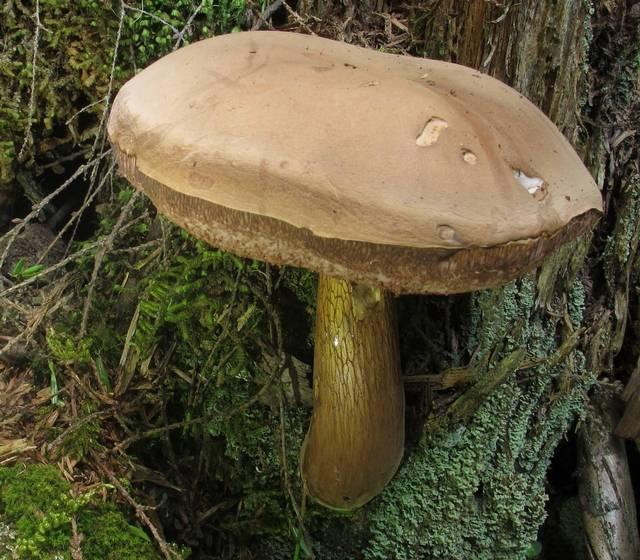Non-edible Mushroom: (105, 28, 605, 513)
